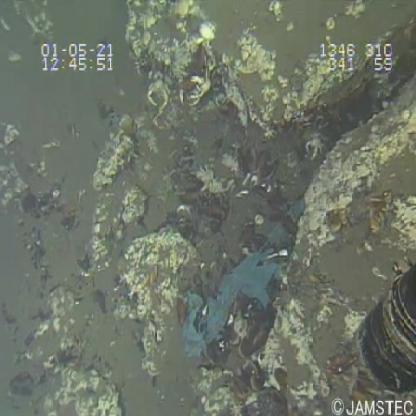Rov: (351, 259, 416, 397)
Rác: (180, 194, 311, 365)
